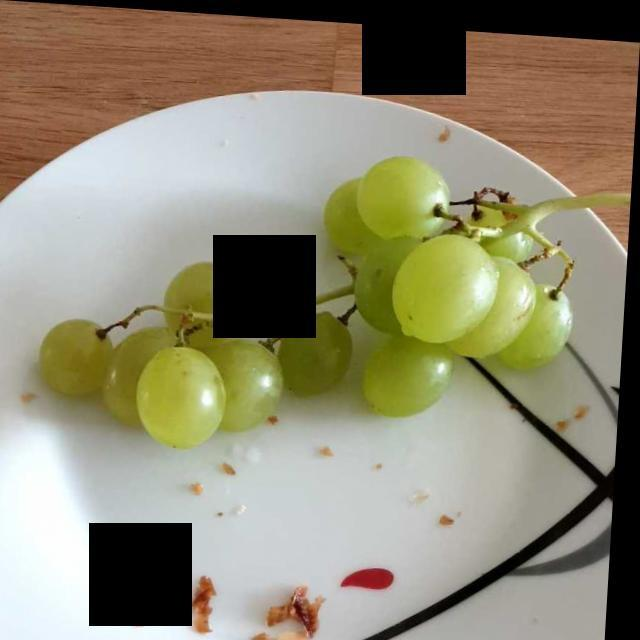grapes: (41, 154, 565, 440)
